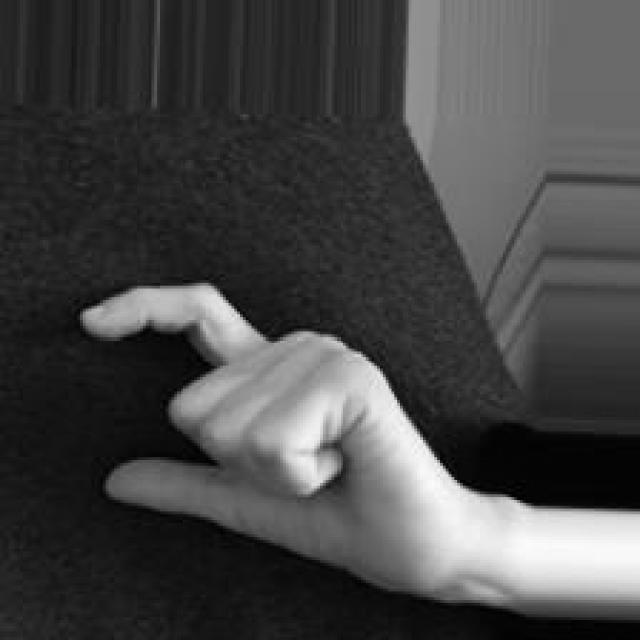C: (78, 276, 458, 604)
